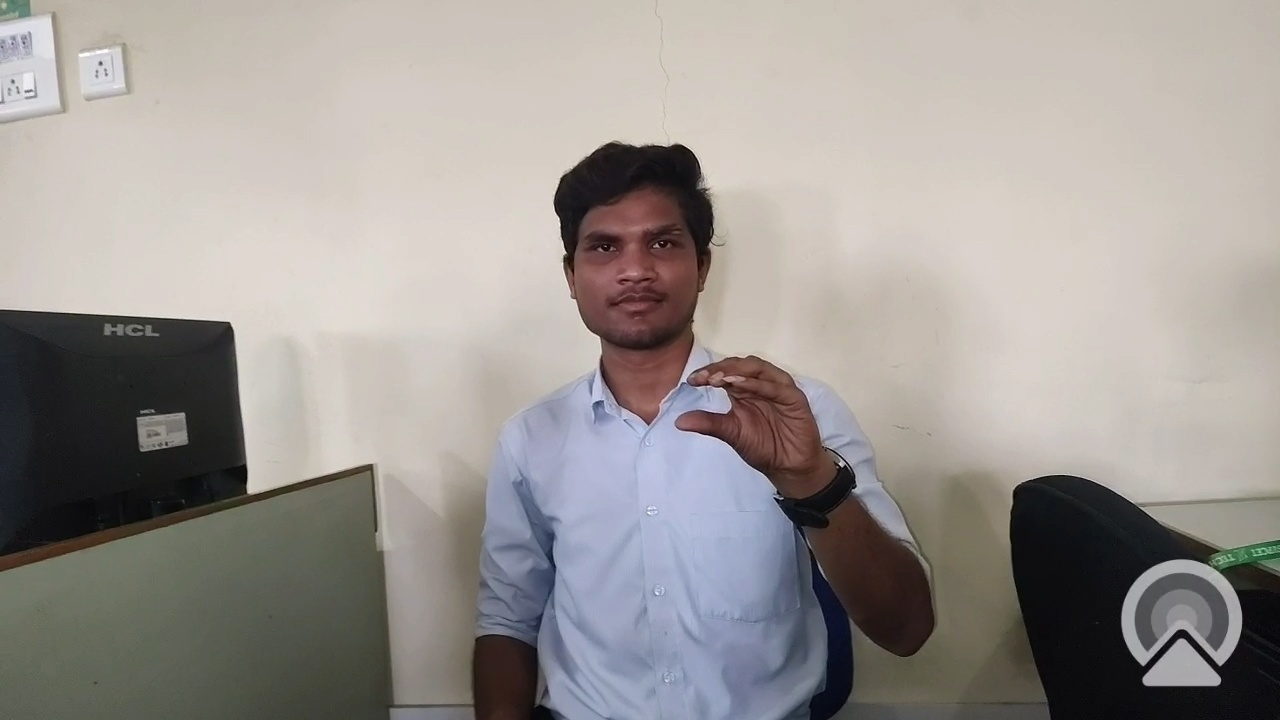No: (659, 335, 850, 499)
